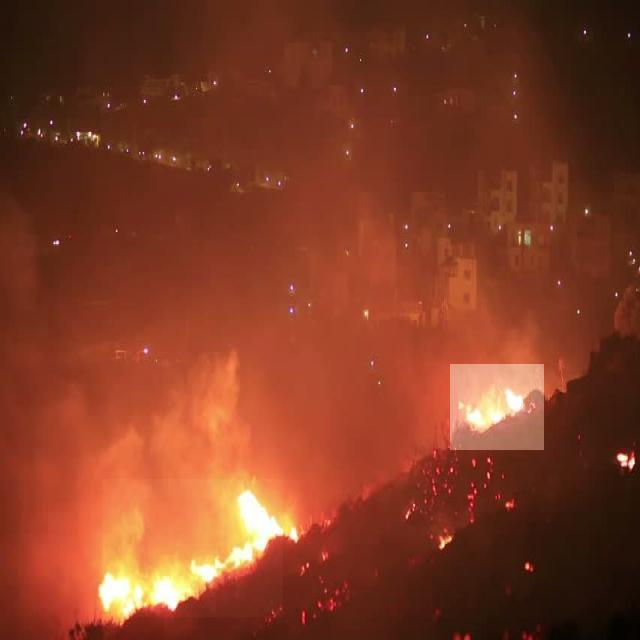Fire: (103, 479, 283, 617), (450, 364, 544, 450)
